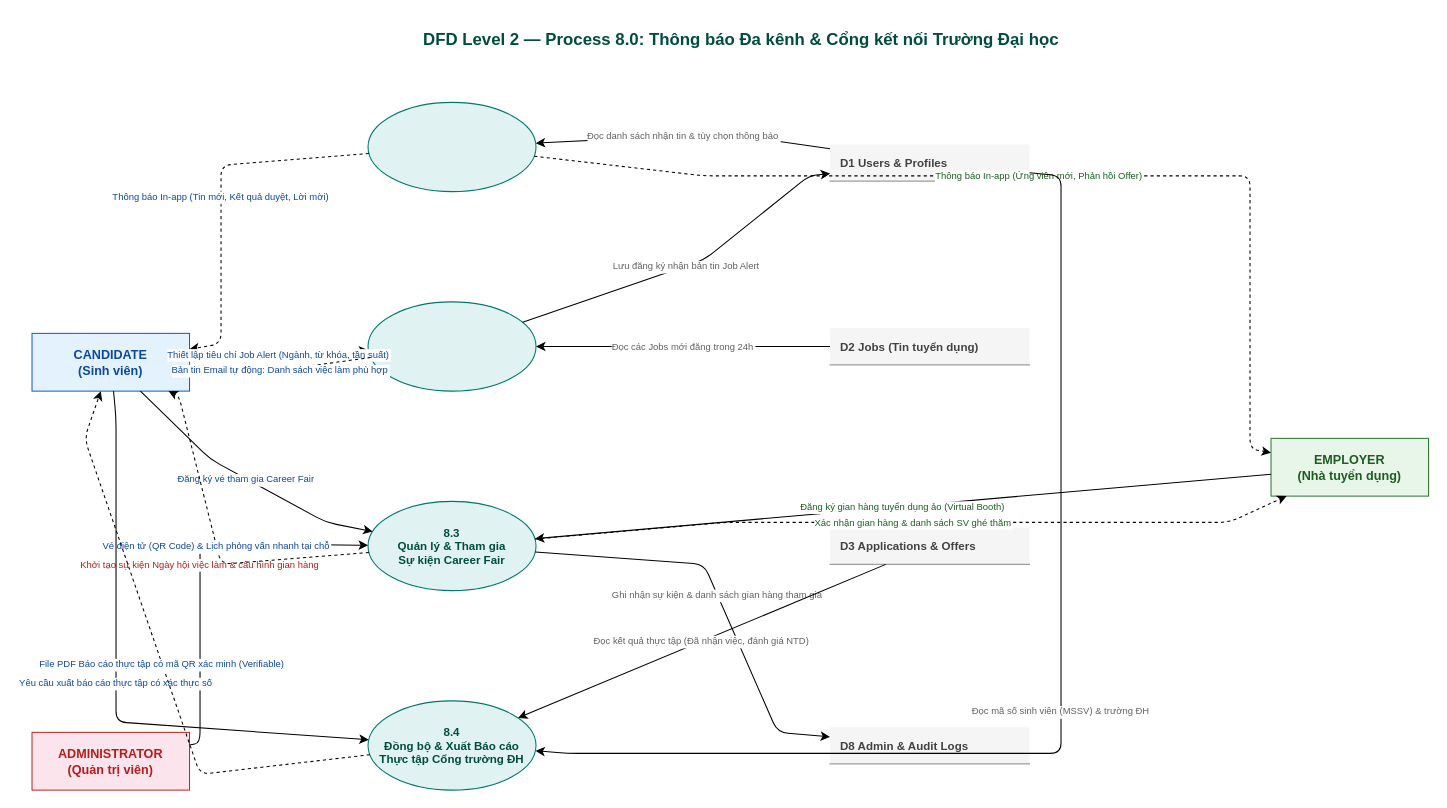
Some shapes in this 1447 by 808 pixel diagram are drawn without their labels. The shapes that lost their labels are listed below. From the top down, each one's centre as x and y in pixels, then its label:
pixel 451 146: 8.1 Xử lý & Phân phối Thông báo In-App
pixel 451 346: 8.2 Quét & Gửi Email Job Alert Tự động
